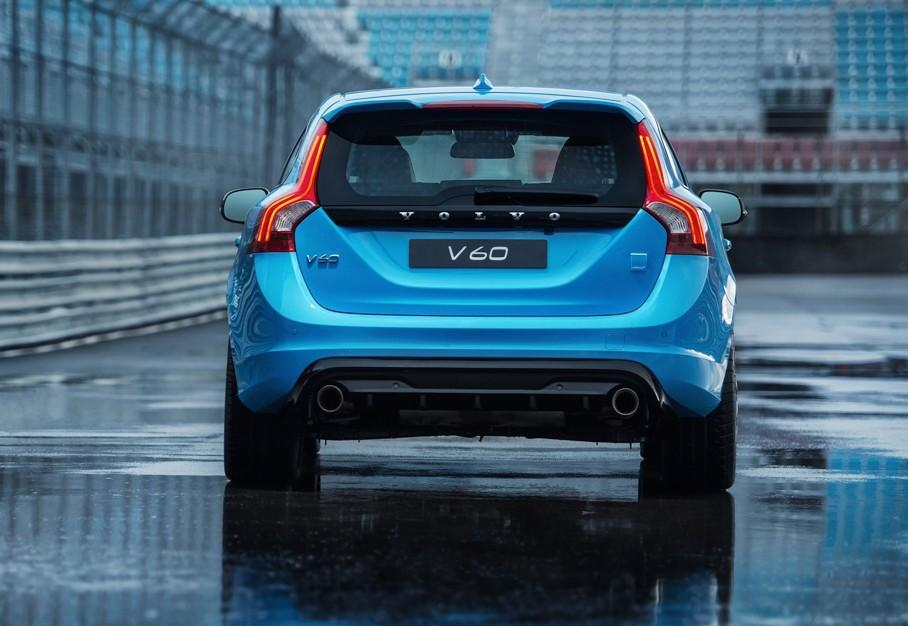Wagon: (218, 72, 746, 490)
